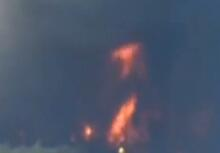fire: (82, 41, 147, 148)
